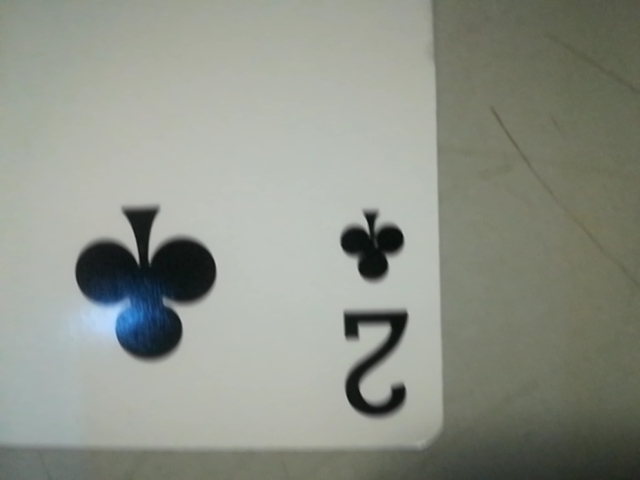mh 2: (314, 191, 430, 437)
